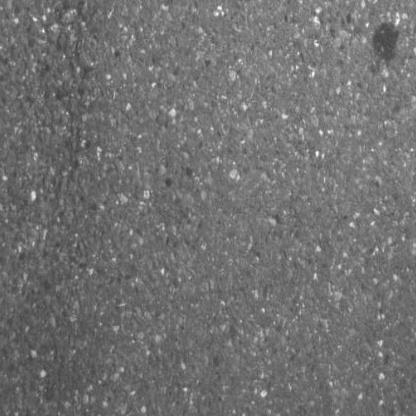Cracks: (66, 0, 103, 156)
